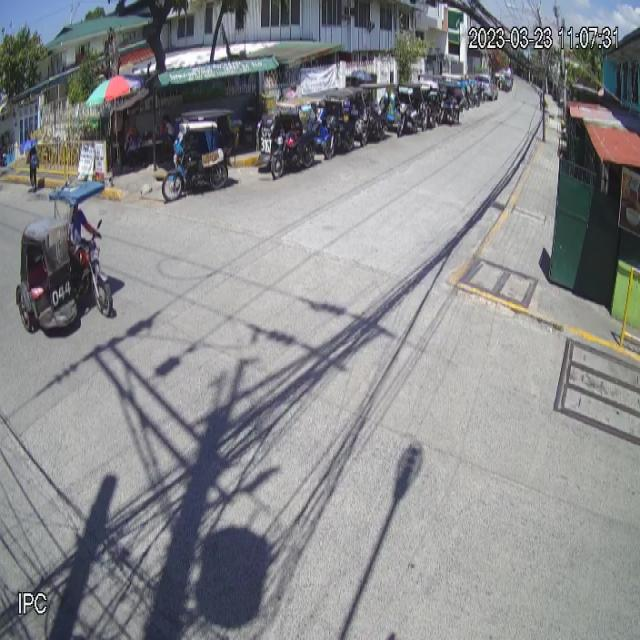Tricycle: (15, 176, 115, 339)
